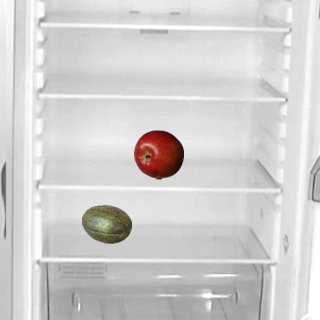Apple Braeburn: (133, 129, 183, 179)
Melon Piel de Sapo: (81, 199, 131, 249)
